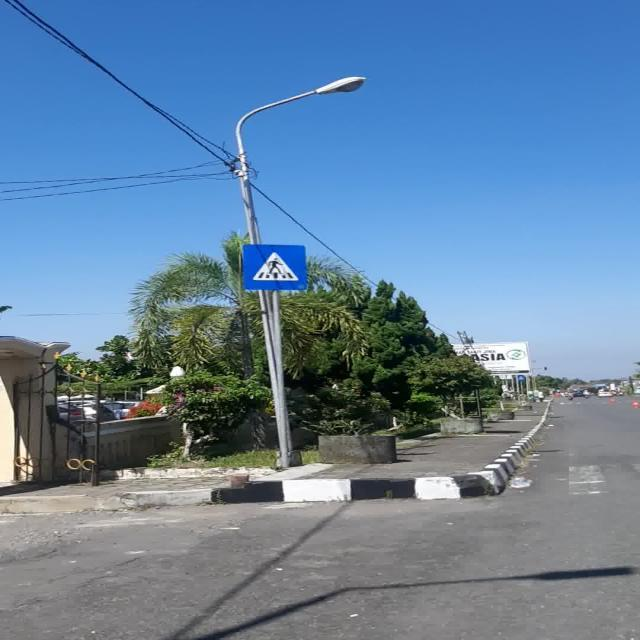Perintah Jalur Penyebrangan: (241, 244, 308, 290)
